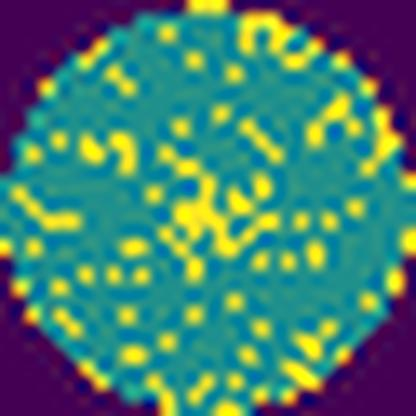Center: (150, 136, 280, 278)
